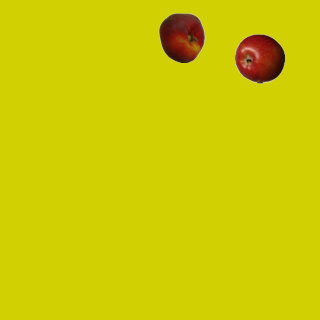Apple Braeburn: (234, 33, 284, 83)
Nectarine Flat: (156, 12, 206, 62)
